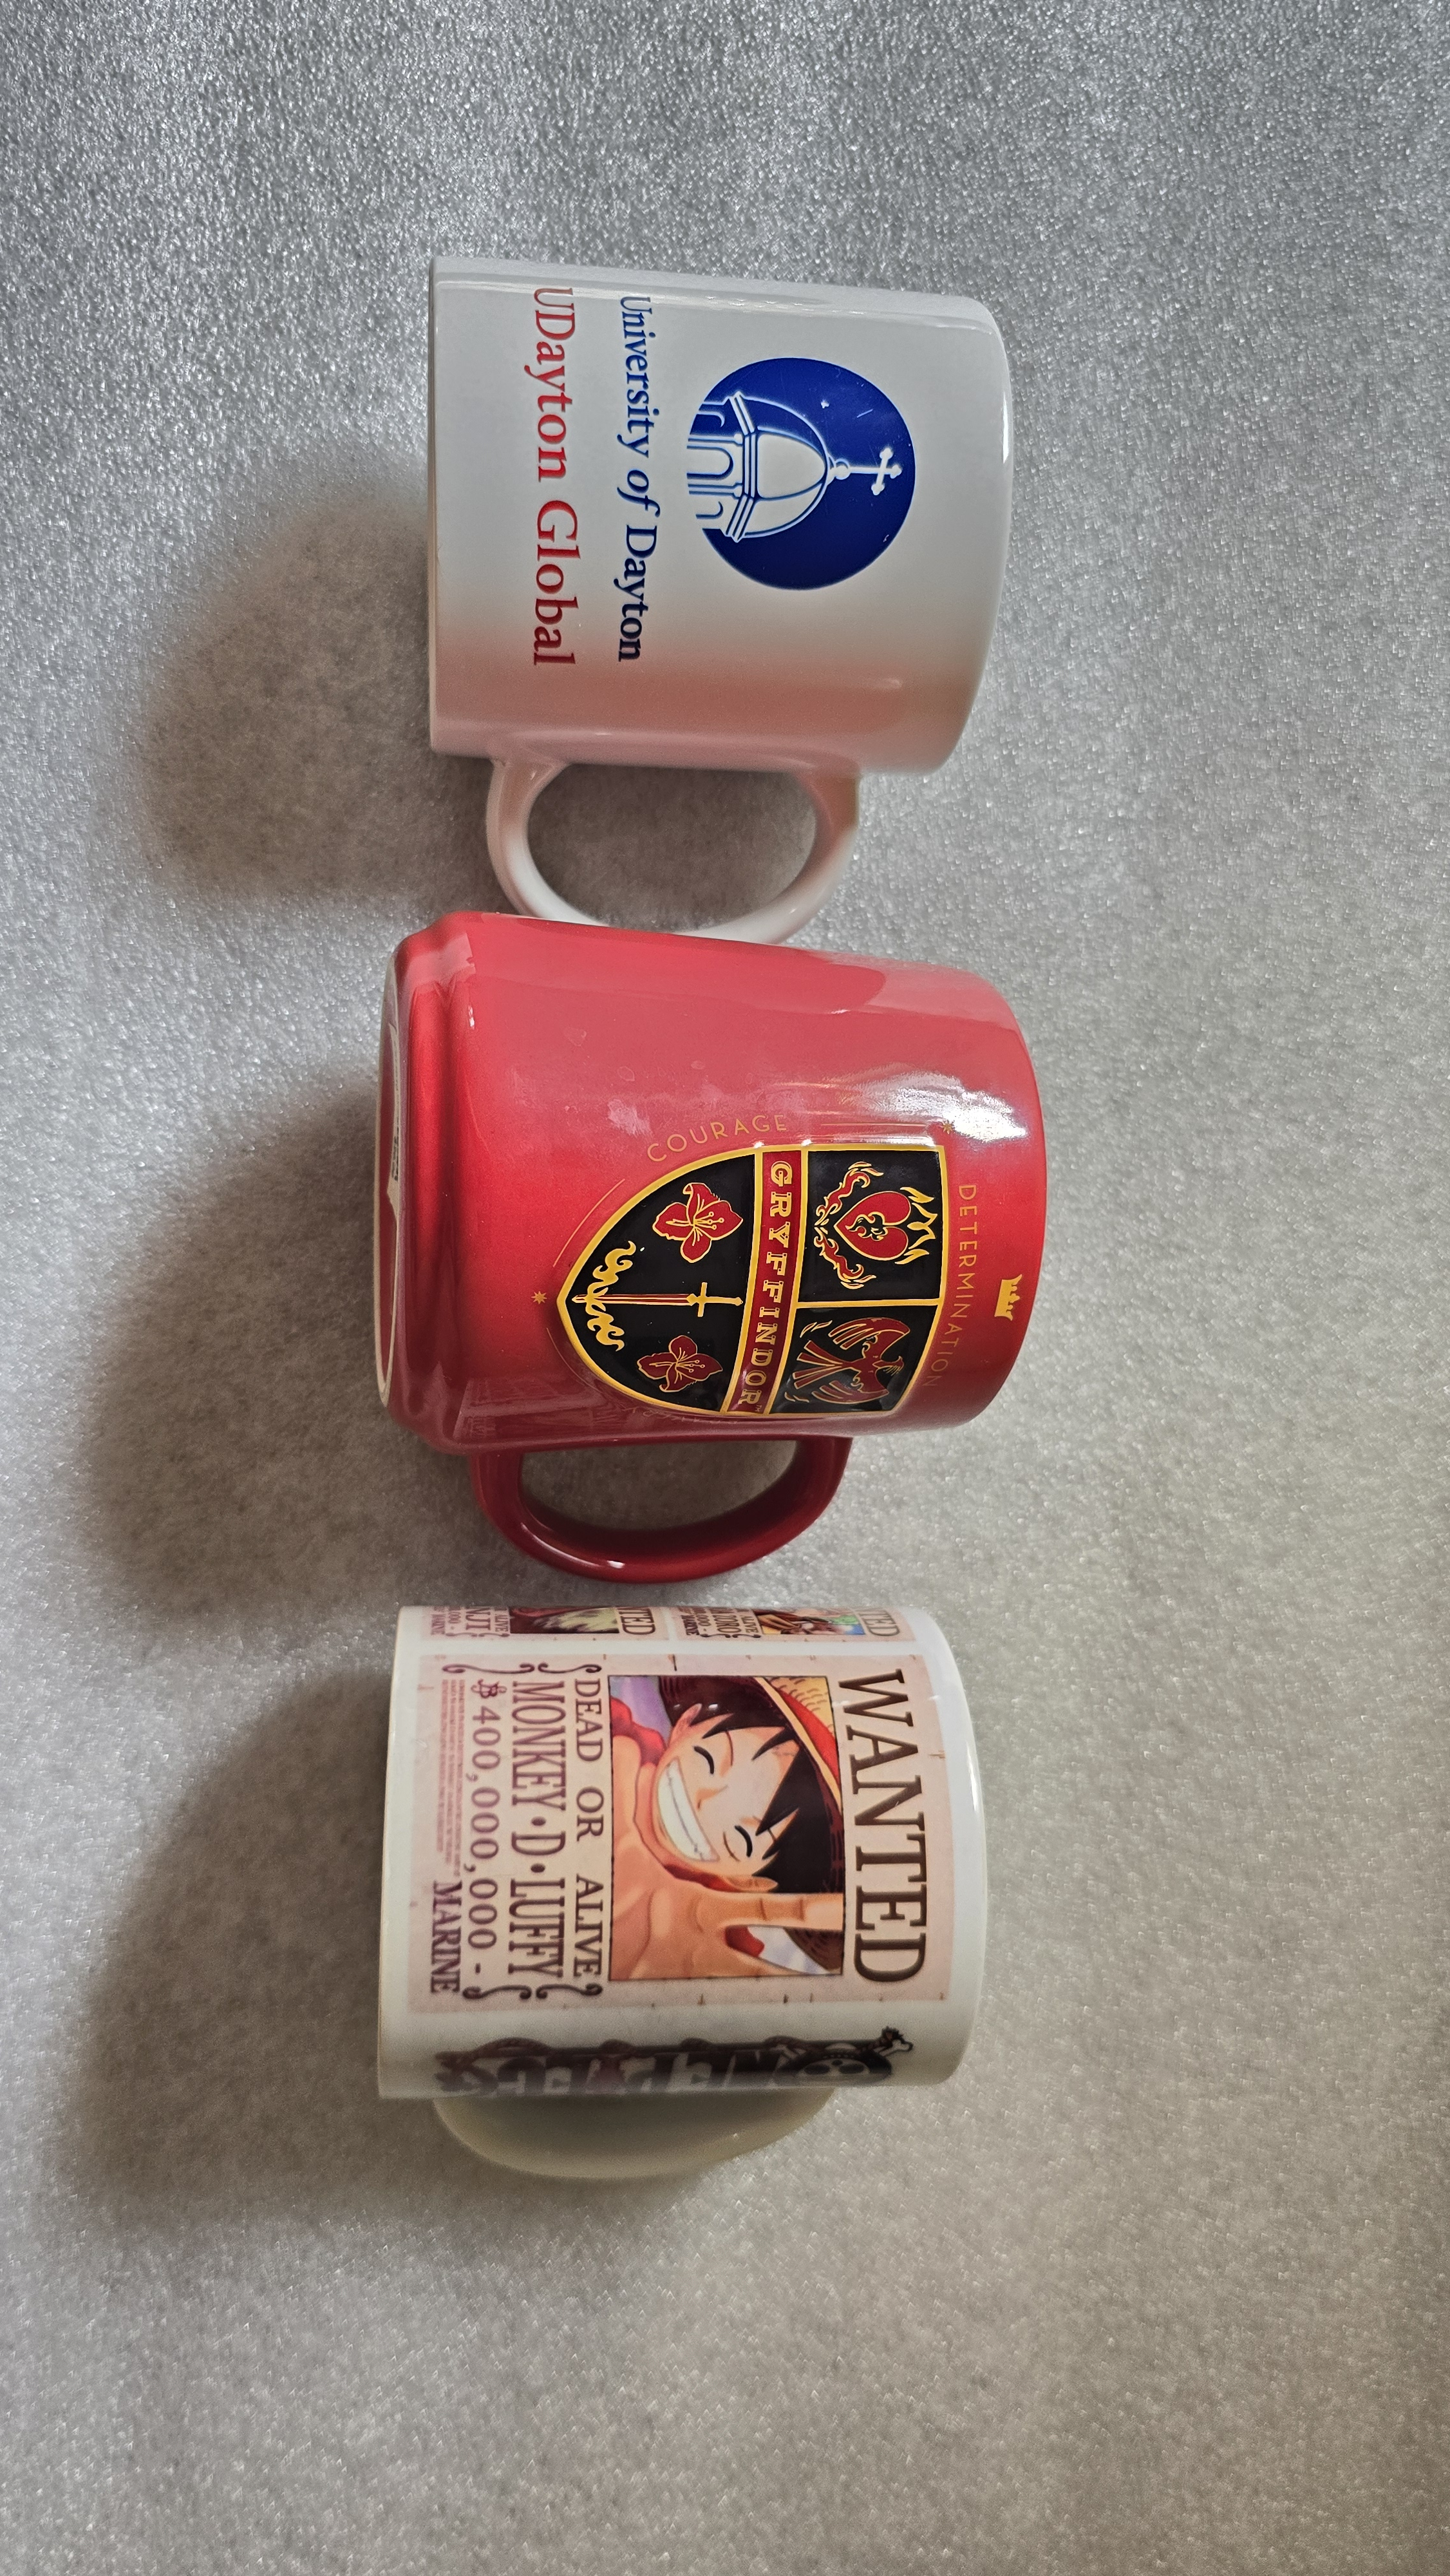mug: (288, 909, 1206, 1589), (380, 223, 1047, 952), (350, 1548, 1015, 2233)
